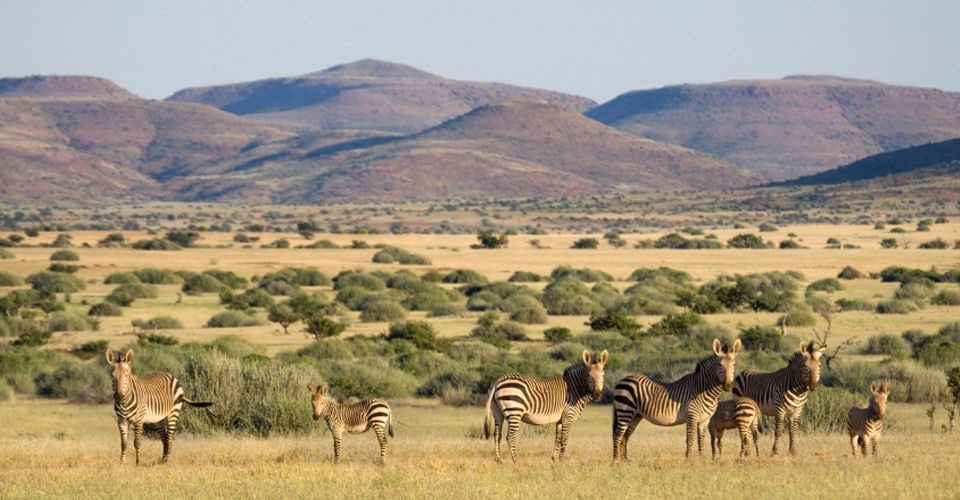zebra: (543, 402, 681, 500), (673, 405, 811, 500), (154, 403, 259, 500), (779, 391, 873, 494), (351, 421, 448, 500), (864, 415, 921, 494)
